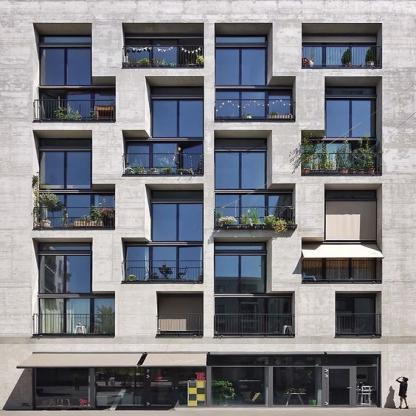Balcony: (122, 259, 204, 283), (34, 314, 115, 338), (34, 207, 115, 231), (302, 259, 382, 283), (214, 313, 294, 337), (33, 99, 115, 122), (301, 153, 382, 176), (123, 153, 204, 176), (215, 99, 296, 122), (123, 45, 204, 68), (214, 205, 294, 228), (302, 45, 381, 68), (157, 314, 203, 336), (337, 314, 382, 336)
Building Outline: (0, 0, 415, 407)
Door: (326, 367, 353, 407)
Facade: (0, 0, 415, 407)
Glass Wall: (35, 355, 207, 406), (212, 367, 322, 405), (125, 141, 202, 177), (125, 245, 202, 281), (300, 141, 376, 177), (300, 245, 376, 281), (215, 297, 291, 333), (39, 89, 115, 125), (215, 193, 291, 229), (38, 193, 114, 229), (39, 297, 114, 333), (216, 89, 292, 121), (126, 38, 204, 68), (302, 42, 376, 71), (322, 201, 375, 238), (39, 256, 92, 292), (151, 100, 204, 136), (39, 48, 92, 84), (39, 152, 92, 188), (151, 204, 204, 240), (216, 256, 267, 292), (215, 152, 266, 188), (216, 48, 266, 84), (327, 100, 375, 136), (335, 296, 376, 336), (160, 297, 202, 336)
Roof: (16, 353, 207, 368), (299, 244, 384, 258)
Window: (32, 130, 116, 231), (32, 23, 116, 122), (215, 22, 297, 123), (32, 238, 114, 338), (122, 76, 204, 176), (214, 238, 295, 339), (122, 184, 204, 283), (301, 76, 382, 176), (214, 130, 295, 228), (302, 184, 382, 283), (123, 22, 205, 68), (302, 22, 382, 68), (157, 291, 204, 336), (335, 291, 381, 336), (212, 357, 376, 366), (356, 367, 376, 405), (325, 193, 373, 199), (43, 37, 91, 43), (43, 139, 91, 145), (326, 88, 374, 94), (217, 140, 265, 146), (42, 244, 90, 250), (154, 193, 202, 199), (216, 244, 264, 250), (217, 37, 265, 43), (154, 88, 202, 94)
